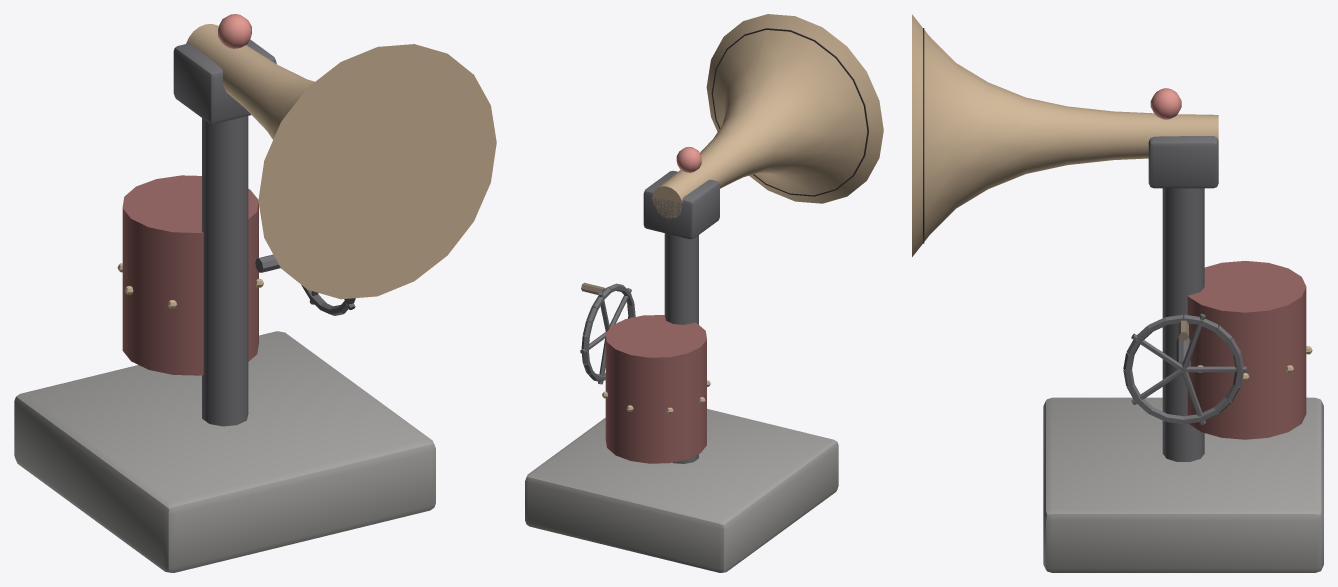
Rendered from quest_foghorn.gltf.
3 views of the same model, side by side, from view 1: azimuth 30°, elevation 25°; view 2: azimuth 150°, elevation 25°; view 3: azimuth 270°, elevation 25° (orthographic). The views are drawn at different scales.
Parts seen in each view (by area): view 1: Body, Glow, Spin; view 2: Body, Spin, Glow; view 3: Body, Spin, Glow.
Boxes of the visible parts, <box> form: Body: <box>14,24,496,572</box>; Glow: <box>218,14,251,48</box>; Spin: <box>301,285,355,315</box>; Body: <box>525,14,883,572</box>; Spin: <box>580,282,635,384</box>; Glow: <box>676,147,701,172</box>; Body: <box>912,14,1323,572</box>; Spin: <box>1123,313,1246,424</box>; Glow: <box>1150,88,1181,119</box>.
Bounding box in the file's own units: 2.4 × 4.65 × 3.53.
